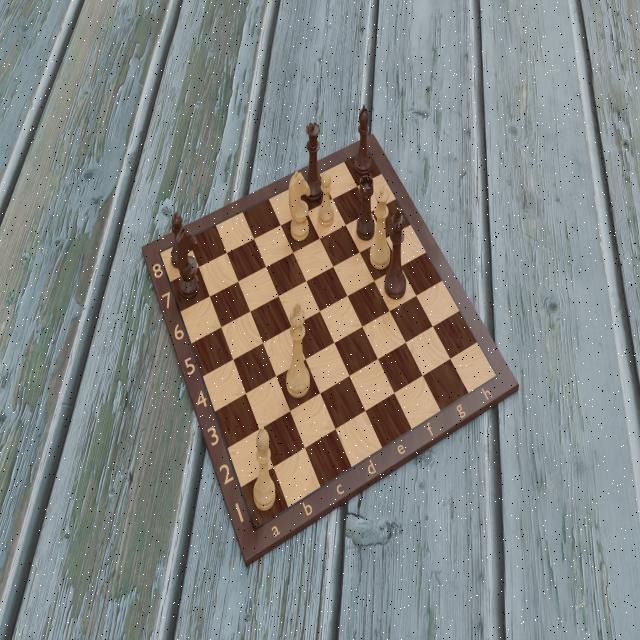black-bishop: (353, 103, 373, 177)
black-king: (383, 205, 408, 301)
black-knight: (173, 225, 201, 303)
black-pawn: (168, 210, 188, 269)
black-queen: (301, 119, 326, 202)
black-rook: (354, 172, 375, 242)
white-bishop: (251, 422, 277, 516)
white-king: (284, 299, 312, 400)
white-knight: (288, 168, 312, 244)
white-pawn: (316, 170, 336, 230)
white-queen: (368, 185, 393, 271)
